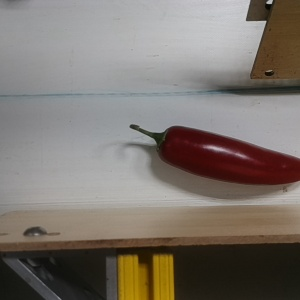Cut Point: (147, 123, 185, 163)
